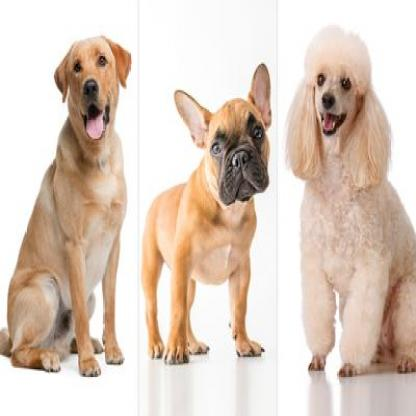dog: (283, 21, 416, 376), (0, 34, 132, 375), (140, 60, 272, 364)
